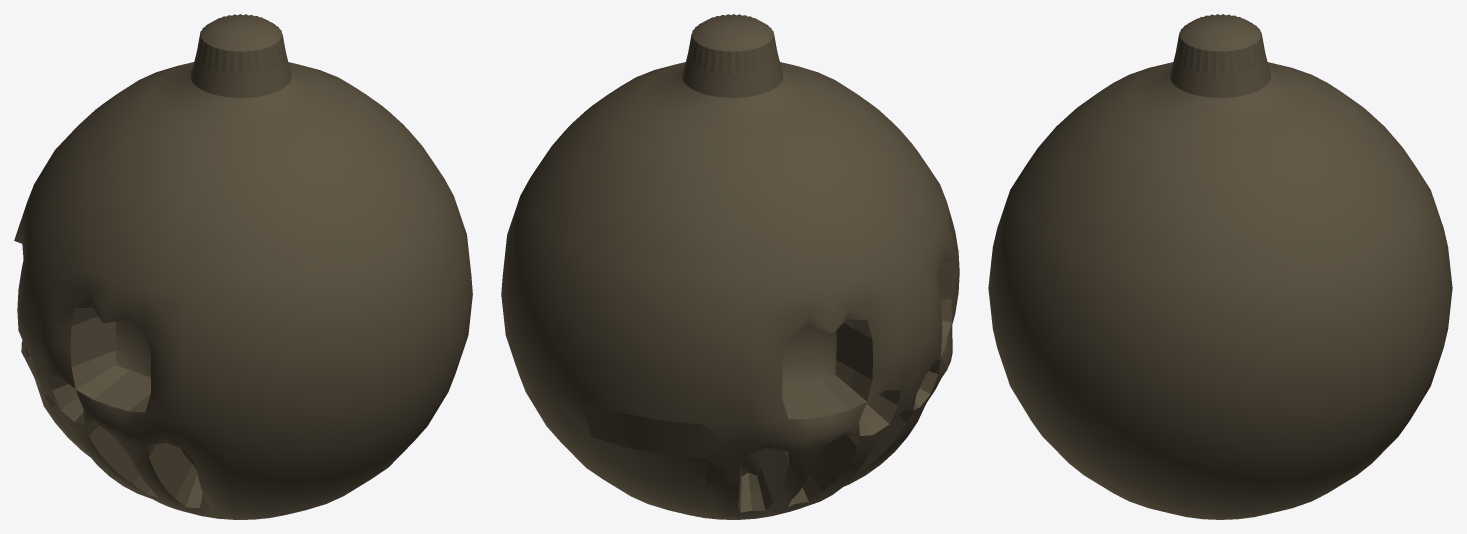
File: Art Project.fbx
3 views of the same model, side by side, from view 1: azimuth 30°, elevation 25°; view 2: azimuth 150°, elevation 25°; view 3: azimuth 270°, elevation 25° (orthographic).
Visible parts, largest first — view 1: Sphere002; view 2: Sphere002; view 3: Sphere002.
Boxes of the visible parts, left/top/right/bottom form: Sphere002: left=14, top=14, right=472, bottom=519; Sphere002: left=501, top=14, right=959, bottom=519; Sphere002: left=988, top=14, right=1452, bottom=519.
Size of the model in its own units: 73.83 by 83.23 by 73.83.
